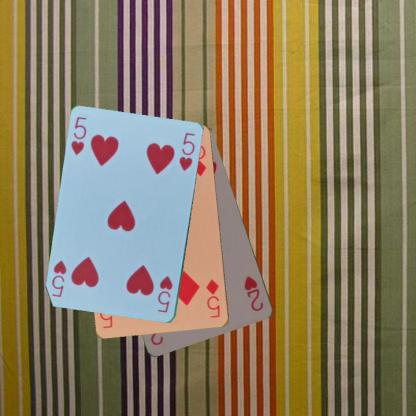2h: (242, 273, 265, 313)
5d: (204, 276, 222, 320)
5h: (68, 115, 88, 156), (156, 274, 174, 314)
